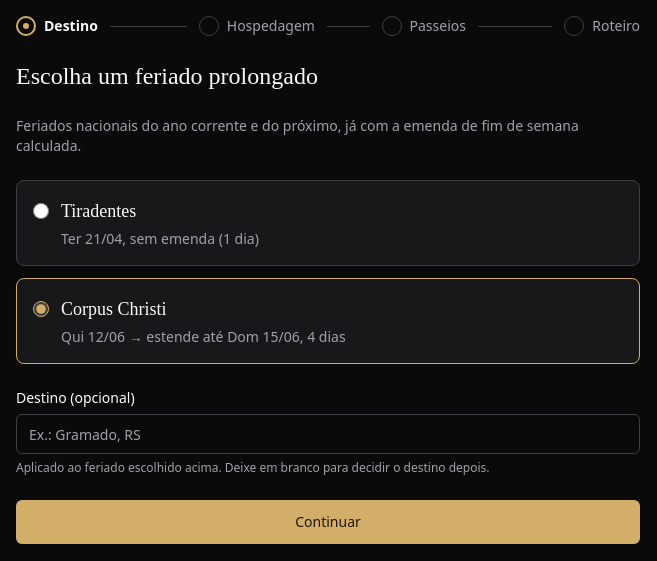
Test: FeriadosScreen (T02, L6-T04) › pré-seleção via ?feriado= (V2-L5-T02, UX-SPEC §8, RF-18.3) › usuário pode trocar a pré-seleção clicando em outro feriado
Expected: the radio button labelled "Corpus Christi Qui 12/06 → estende até Dom 15/06, 4 dias" is checked, [33,301,49,317]
Click the radio button labelled "Tiradentes Ter 21/04, sem emenda (1 dia)": (41, 211) [33,203,49,219]
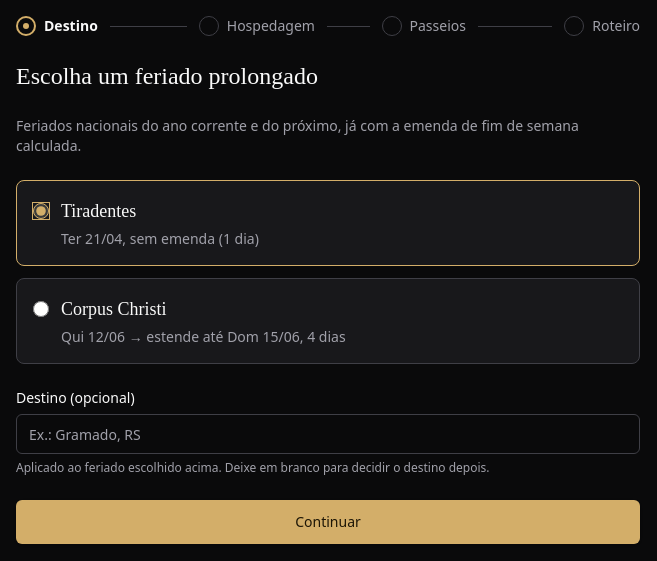
Expected: the radio button labelled "Tiradentes Ter 21/04, sem emenda (1 dia)" is checked, [33,203,49,219]
Expected: the radio button labelled "Corpus Christi Qui 12/06 → estende até Dom 15/06, 4 dias" is not checked, [33,301,49,317]
